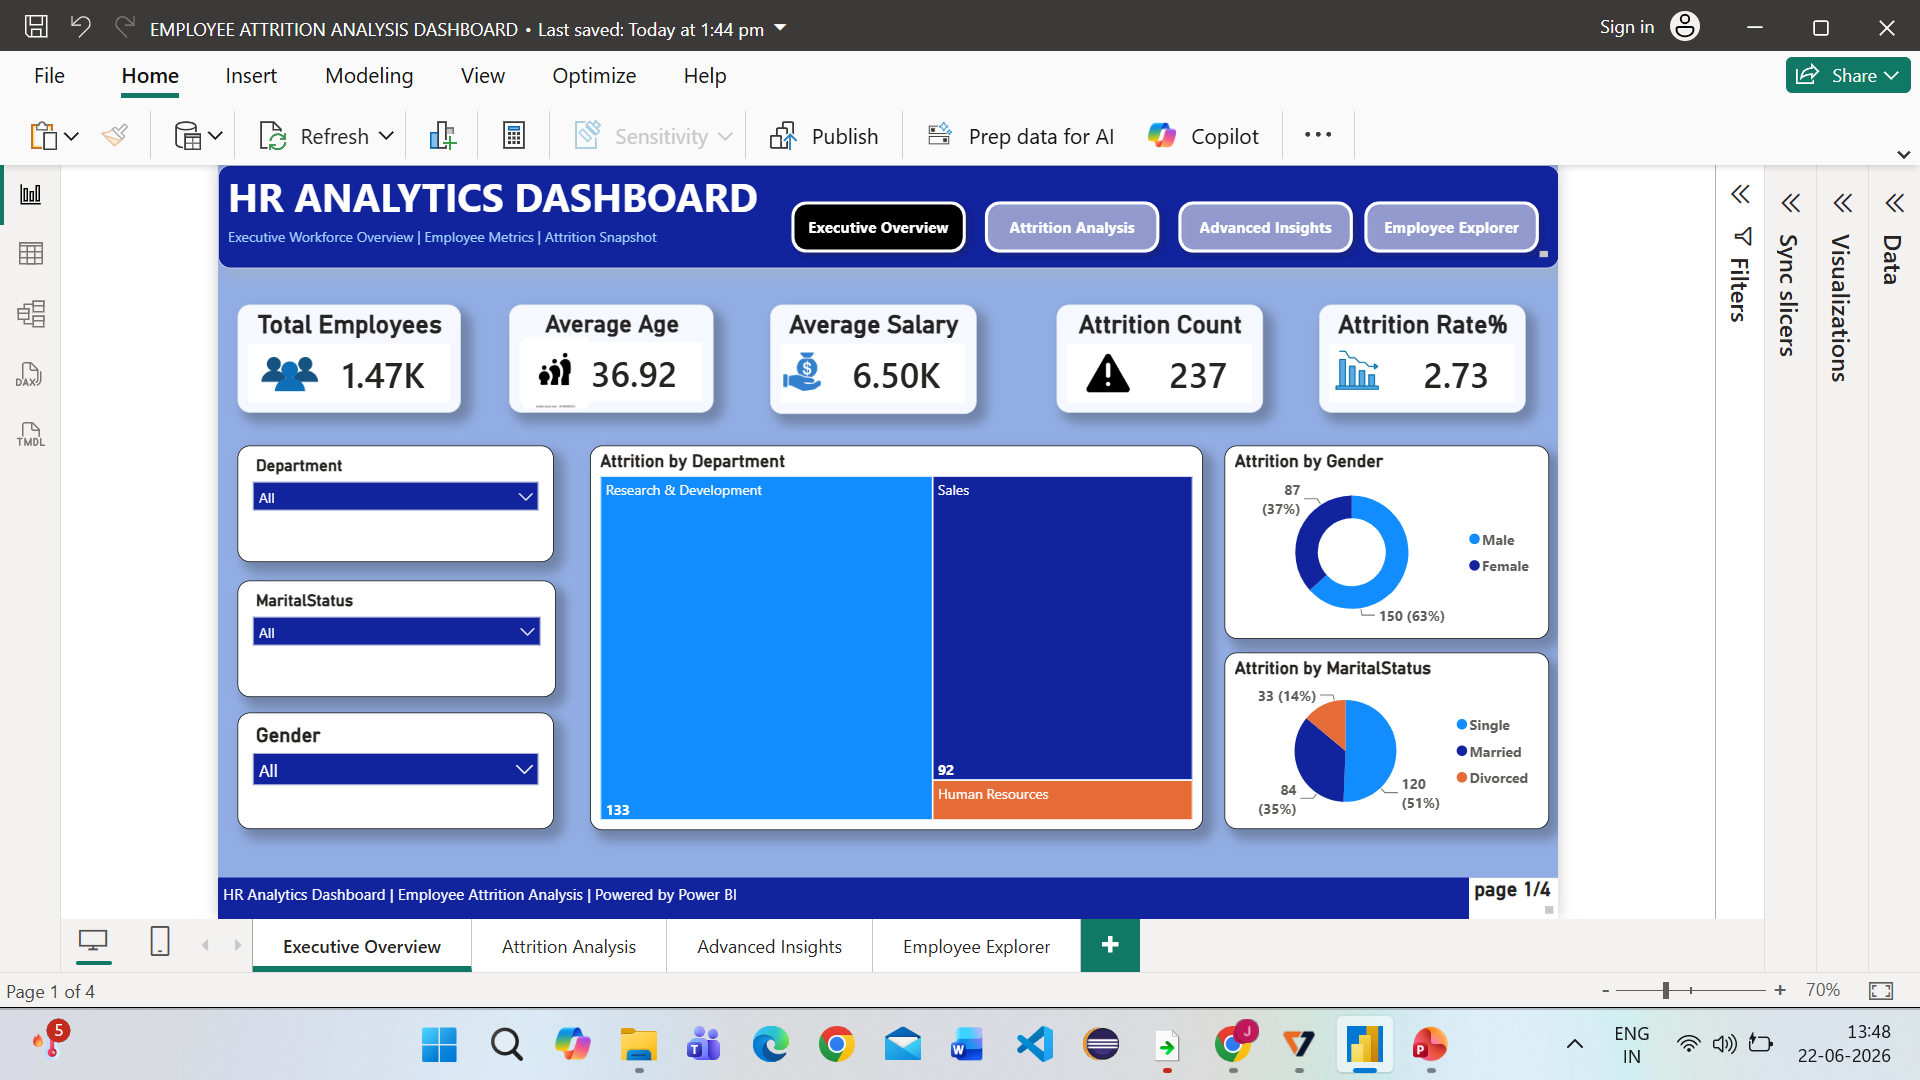

This screenshot's page, from the dashboard's own definition file:
{"tool":"powerbi","page":{"name":"Executive Overview","canvas":[1280,720],"ordinal":0},"visuals":[{"type":"textbox","title":"HR ANALYTICS DASHBOARD","box":[0,0,1280.4,98.6],"z":0},{"type":"cardVisual","title":"Total Employees","fields":{"Data":["CountNonNull(WA_Fn-UseC_-HR-Employee-Attrition.EmployeeNumber)"]},"box":[19.1,133.6,213.1,103.4],"z":1000},{"type":"cardVisual","title":"Average Age","fields":{"Data":["Avg(WA_Fn-UseC_-HR-Employee-Attrition.Age)"]},"box":[278.4,133.6,195.6,103.4],"z":2000},{"type":"cardVisual","title":"Average Salary","fields":{"Data":["Avg(WA_Fn-UseC_-HR-Employee-Attrition.MonthlyIncome)"]},"box":[526.5,133.6,197.2,105],"z":3000},{"type":"cardVisual","title":"Attrition Count","fields":{"Data":["WA_Fn-UseC_-HR-Employee-Attrition.Attrition Count"]},"box":[800.1,133.6,197.2,103.4],"z":4000},{"type":"cardVisual","title":"Attrition Rate%","fields":{"Data":["WA_Fn-UseC_-HR-Employee-Attrition.Attrition Rate"]},"box":[1051.4,133.6,197.2,103.4],"z":5000},{"type":"image","box":[41.4,173.4,54.1,52.5],"z":6000},{"type":"image","box":[133.6,359.5,98.6,95.4],"z":7000},{"type":"image","box":[291.1,163.8,63.6,70],"z":8000},{"type":"image","box":[537.6,179.7,41.4,36.6],"z":9000},{"type":"image","box":[828.7,179.7,41.4,39.8],"z":10000},{"type":"image","box":[1067.7,173.9,41.6,45.4],"z":11000},{"type":"treemap","title":"Attrition by Department","fields":{"Values":["WA_Fn-UseC_-HR-Employee-Attrition.Attrition Count"],"Group":["WA_Fn-UseC_-HR-Employee-Attrition.Department"]},"box":[354.7,267.2,585.3,367.4],"z":12000},{"type":"donutChart","title":"Attrition by Gender","fields":{"Category":["WA_Fn-UseC_-HR-Employee-Attrition.Gender"],"Y":["WA_Fn-UseC_-HR-Employee-Attrition.Attrition Count"]},"box":[960.7,267.2,310.2,184.5],"z":13000},{"type":"pieChart","title":"Attrition by MaritalStatus","fields":{"Category":["WA_Fn-UseC_-HR-Employee-Attrition.MaritalStatus"],"Y":["WA_Fn-UseC_-HR-Employee-Attrition.Attrition Count"]},"box":[960.7,466,310.2,168.6],"z":14000},{"type":"slicer","fields":{"Values":["WA_Fn-UseC_-HR-Employee-Attrition.Department"]},"box":[19.1,267.2,302.2,111.3],"z":15000},{"type":"slicer","fields":{"Values":["WA_Fn-UseC_-HR-Employee-Attrition.Gender"]},"box":[19.1,523.3,302.2,111.3],"z":16000},{"type":"slicer","fields":{"Values":["WA_Fn-UseC_-HR-Employee-Attrition.MaritalStatus"]},"box":[19.1,396.1,303.8,111.3],"z":17000},{"type":"textbox","box":[0,680.8,1280.4,39.8],"z":22000},{"type":"textbox","title":"page 1/4","box":[1194.5,680.8,85.9,39.8],"z":22001},{"type":"actionButton","box":[539.2,25.4,184.5,66.8],"z":22002},{"type":"actionButton","box":[908.2,25.4,184.5,66.8],"z":22003},{"type":"actionButton","box":[1086.4,25.4,184.5,66.8],"z":22004},{"type":"actionButton","box":[723.7,25.4,184.5,66.8],"z":22005}]}

Visuals, with their boxes on the page's 1280x720 design canvas (x1, y1, x2, y2). These are canvas units, not pixel positions in the 1920x1080 screenshot, which may show the page scaled, cropped or inside an application window:
"HR ANALYTICS DASHBOARD" textbox: rect(0, 0, 1280, 99)
"Total Employees" cardVisual: rect(19, 134, 232, 237)
"Average Age" cardVisual: rect(278, 134, 474, 237)
"Average Salary" cardVisual: rect(526, 134, 724, 239)
"Attrition Count" cardVisual: rect(800, 134, 997, 237)
"Attrition Rate%" cardVisual: rect(1051, 134, 1249, 237)
image: rect(41, 173, 96, 226)
image: rect(134, 360, 232, 455)
image: rect(291, 164, 355, 234)
image: rect(538, 180, 579, 216)
image: rect(829, 180, 870, 220)
image: rect(1068, 174, 1109, 219)
"Attrition by Department" treemap: rect(355, 267, 940, 635)
"Attrition by Gender" donutChart: rect(961, 267, 1271, 452)
"Attrition by MaritalStatus" pieChart: rect(961, 466, 1271, 635)
slicer - WA_Fn-UseC_-HR-Employee-Attrition.Department: rect(19, 267, 321, 378)
slicer - WA_Fn-UseC_-HR-Employee-Attrition.Gender: rect(19, 523, 321, 635)
slicer - WA_Fn-UseC_-HR-Employee-Attrition.MaritalStatus: rect(19, 396, 323, 507)
textbox: rect(0, 681, 1280, 721)
"page 1/4" textbox: rect(1194, 681, 1280, 721)
actionButton: rect(539, 25, 724, 92)
actionButton: rect(908, 25, 1093, 92)
actionButton: rect(1086, 25, 1271, 92)
actionButton: rect(724, 25, 908, 92)
